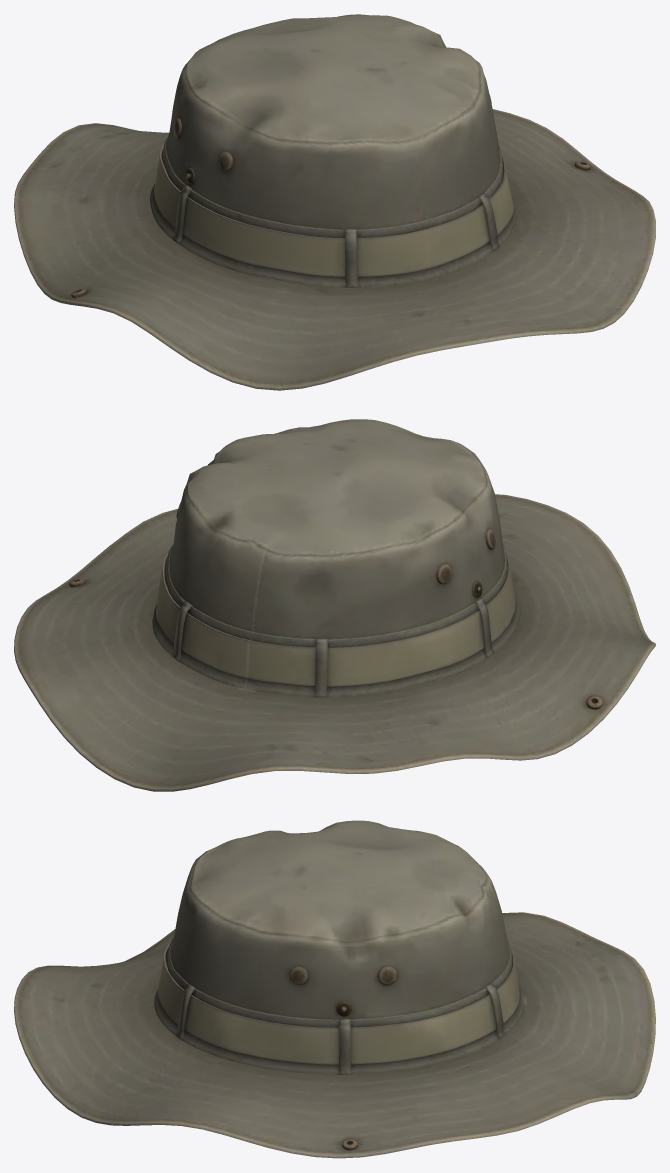
The model's file is fishermans_hat.glb.
3 views of the same model, one above another, from view 1: azimuth 30°, elevation 25°; view 2: azimuth 150°, elevation 25°; view 3: azimuth 270°, elevation 25° (orthographic). The views are drawn at different scales.
Visible parts, largest first — view 1: fishermans_hat; view 2: fishermans_hat; view 3: fishermans_hat.
Part boxes in pixels (left/top/right/bottom): fishermans_hat: left=14, top=14, right=655, bottom=390; fishermans_hat: left=14, top=419, right=655, bottom=791; fishermans_hat: left=14, top=820, right=655, bottom=1158.
Bounding box in the file's own units: 0.3236 × 0.124 × 0.35.
Materials: 1 (1 with a texture image).
